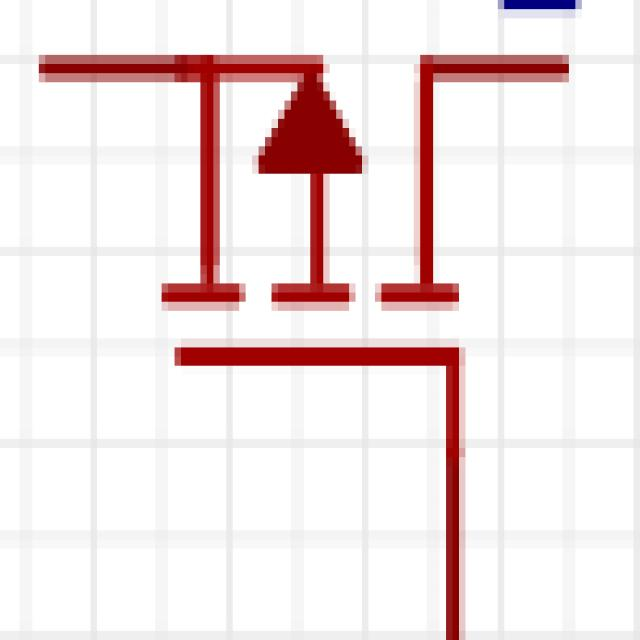pmos: (43, 32, 604, 613)
